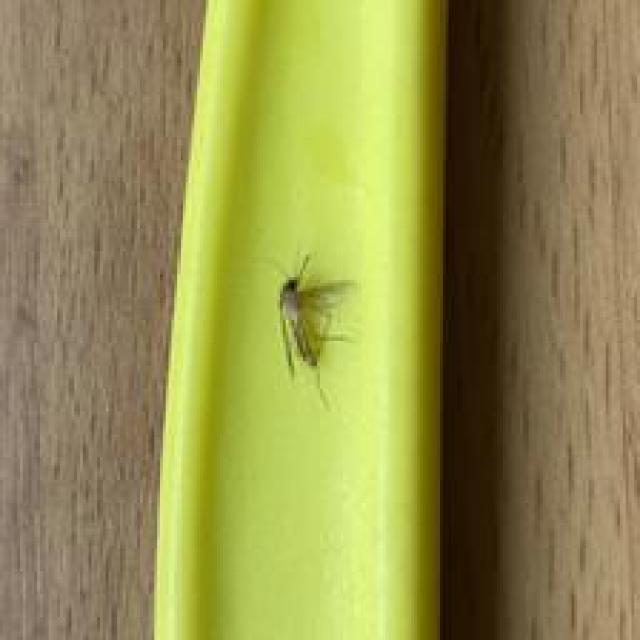Culex: (272, 252, 357, 408)
